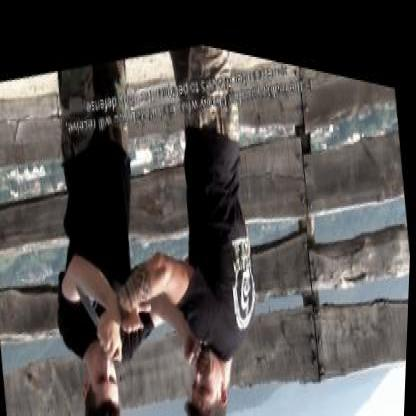knife: (72, 262, 128, 374)
